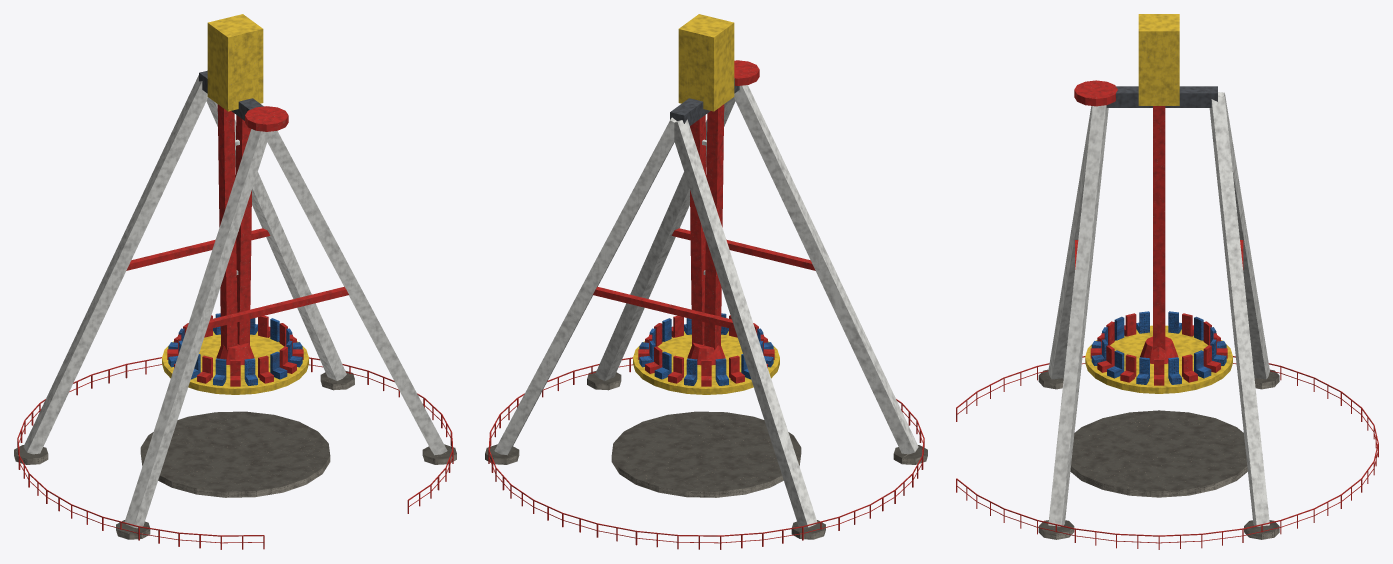
The model's file is Ride_GyroSwing.fbx.
The picture shows the model from 3 angles, left to right: view 1: azimuth 30°, elevation 25°; view 2: azimuth 150°, elevation 25°; view 3: azimuth 270°, elevation 25°; orthographic projection.
Parts seen in each view (by area): view 1: AFrame_South, AFrame_North, LoadingPlatform, Swing_Arm, Disc_Seats, Fence; view 2: AFrame_North, AFrame_South, LoadingPlatform, Swing_Arm, Disc_Seats, Fence, Swing_Axle; view 3: LoadingPlatform, AFrame_South, AFrame_North, Disc_Seats, Swing_Arm, Fence, Swing_Axle.
Part boxes in pixels (x1,y1,x2,y2): AFrame_South: [116, 106, 456, 539]; AFrame_North: [14, 75, 354, 464]; LoadingPlatform: [140, 411, 330, 497]; Swing_Arm: [207, 14, 263, 350]; Disc_Seats: [162, 313, 308, 394]; Fence: [17, 357, 453, 549]; AFrame_North: [485, 117, 825, 539]; AFrame_South: [587, 60, 927, 464]; LoadingPlatform: [611, 411, 801, 497]; Swing_Arm: [678, 14, 734, 350]; Disc_Seats: [633, 313, 779, 394]; Fence: [488, 357, 924, 549]; Swing_Axle: [670, 78, 739, 125]; LoadingPlatform: [1070, 410, 1247, 497]; AFrame_South: [1038, 80, 1117, 539]; AFrame_North: [1209, 92, 1279, 539]; Disc_Seats: [1085, 311, 1232, 393]; Swing_Arm: [1138, 14, 1179, 349]; Fence: [956, 356, 1378, 549]; Swing_Axle: [1106, 86, 1217, 107].
Size of the model in its own units: 32.08 by 35 by 30.86.
